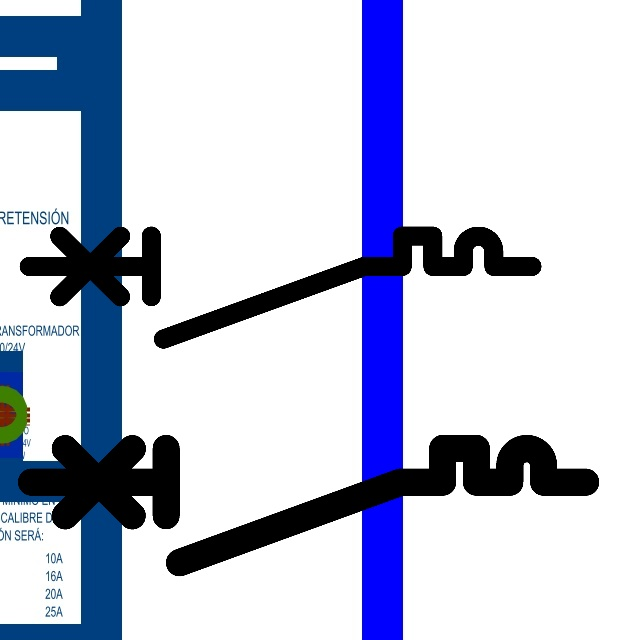interruptor_termomagnetico: (17, 434, 600, 576), (16, 223, 545, 352)
